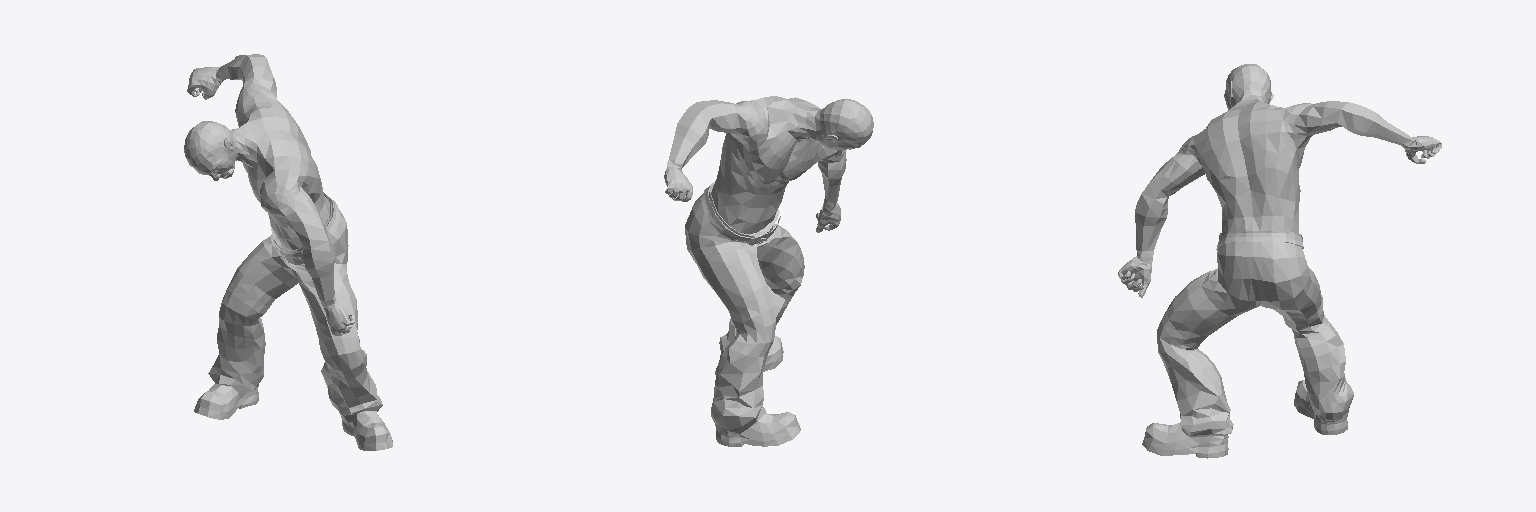
The picture shows the model from 3 angles: view 1: azimuth 30°, elevation 25°; view 2: azimuth 150°, elevation 25°; view 3: azimuth 270°, elevation 25°; orthographic projection.
Parts seen in each view (by area): view 1: Thug; view 2: Thug; view 3: Thug.
Boxes of the visible parts, box(x1,y1,x2,y2) form: Thug: box(184, 54, 392, 450); Thug: box(664, 96, 873, 446); Thug: box(1118, 64, 1441, 458).
Size of the model in its own units: 78.83 by 148 by 130.